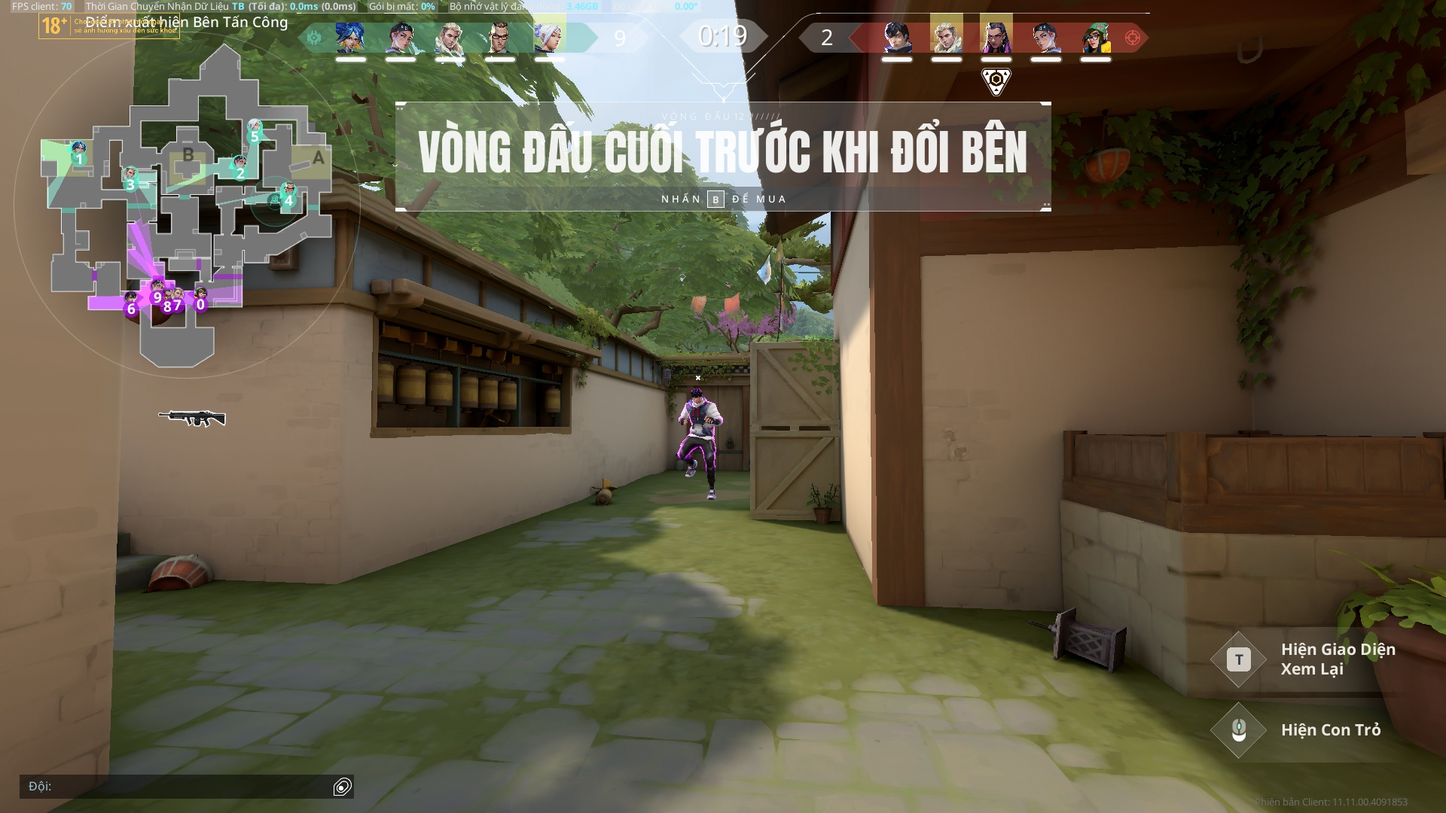body: (684, 399, 716, 434)
head: (690, 388, 703, 403)
